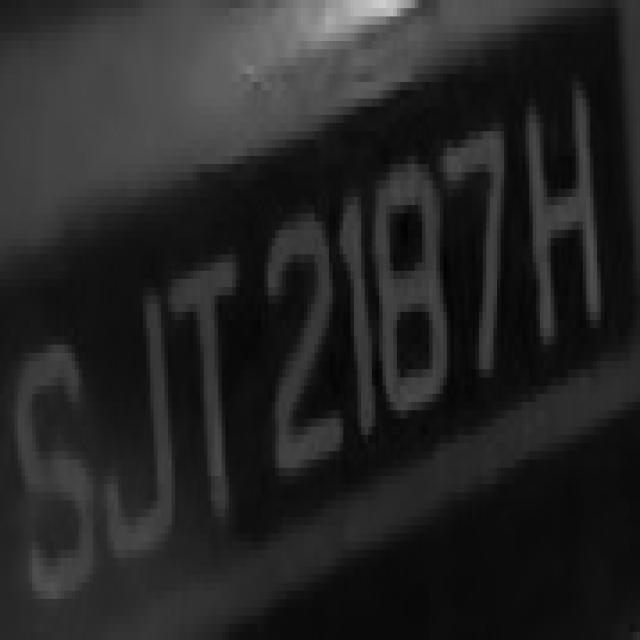1: (326, 164, 386, 468)
2: (254, 189, 343, 492)
7: (436, 131, 515, 427)
8: (372, 140, 450, 468)
H: (511, 41, 601, 377)
J: (89, 254, 179, 591)
S: (11, 320, 107, 624)
T: (157, 213, 250, 517)
